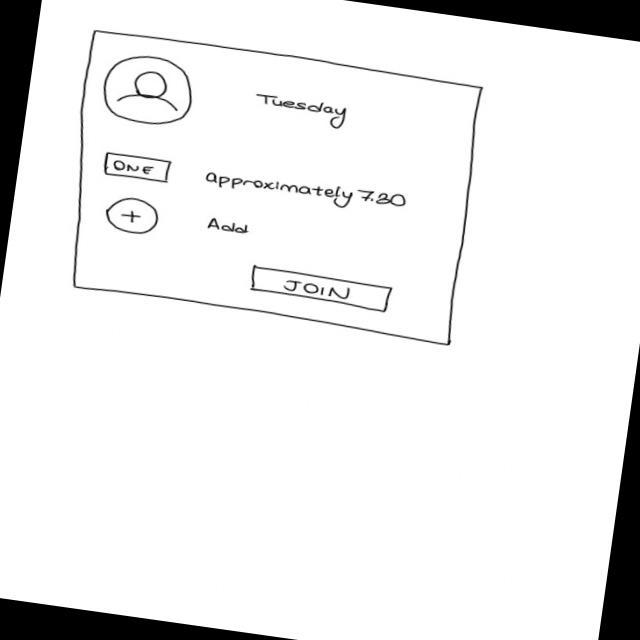button: (248, 265, 395, 315), (103, 152, 174, 186)
icon-button: (103, 196, 162, 239)
label: (204, 166, 410, 218), (253, 92, 351, 133), (205, 217, 254, 238)
